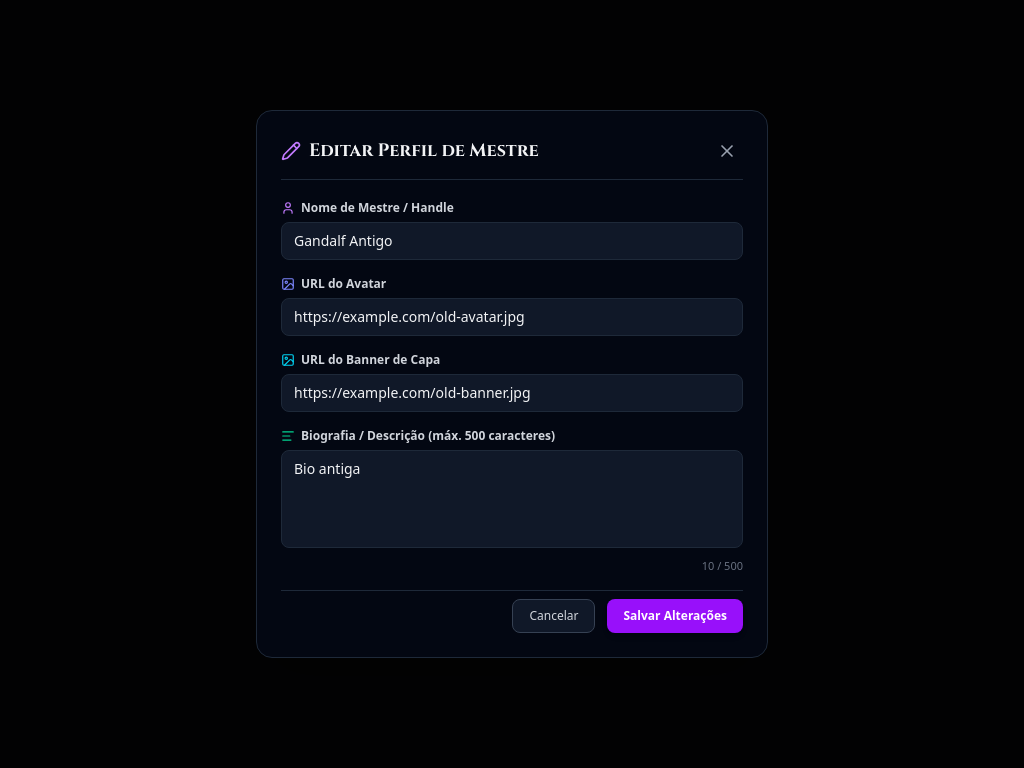
EditMasterProfileModal Component › exibe mensagem de erro quando a API falha
The image size is (1024, 768).
Click the button "Salvar Alterações" at (675, 616), box [608,599,743,633]
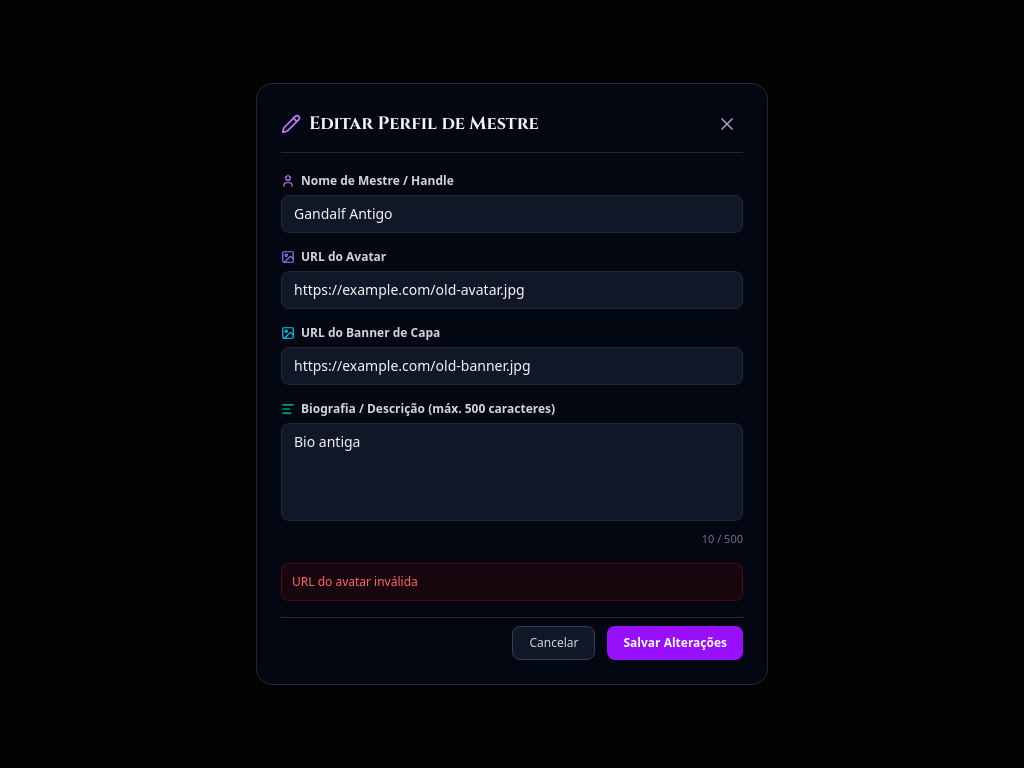
expect the text "URL do avatar inválida" is shown: met, box [281,563,743,601]
